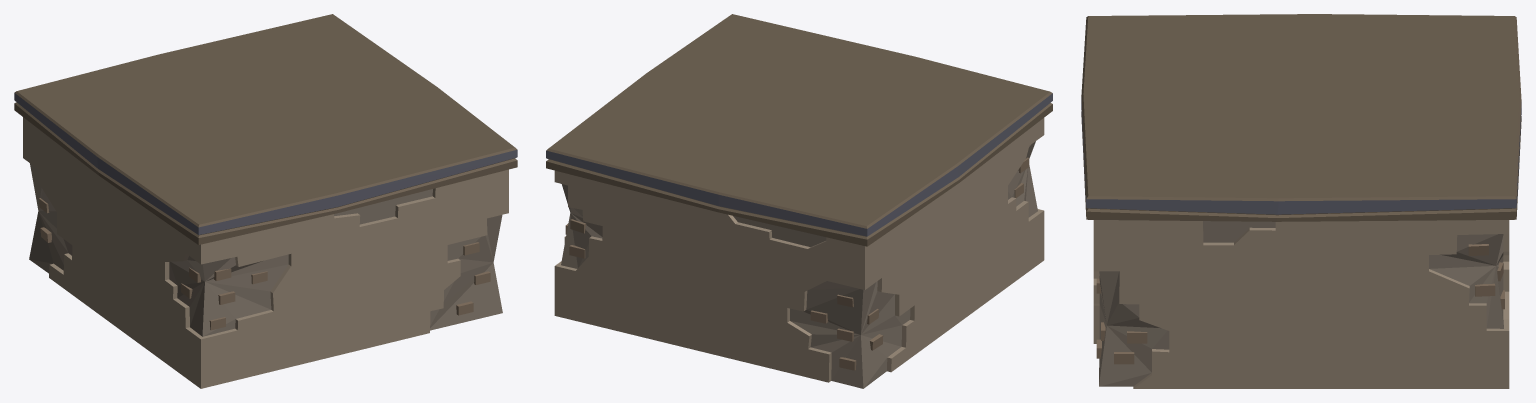
The model's file is SM_Bld_Shanty_Base_01.glb.
The picture shows the model from 3 angles, left to right: view 1: azimuth 30°, elevation 25°; view 2: azimuth 150°, elevation 25°; view 3: azimuth 270°, elevation 25°; orthographic projection. The views are drawn at different scales.
Visible parts, largest first — view 1: SM_Bld_Shanty_Base_01_part00; view 2: SM_Bld_Shanty_Base_01_part00; view 3: SM_Bld_Shanty_Base_01_part00.
Part boxes in pixels (<box>): SM_Bld_Shanty_Base_01_part00: <box>14,14,517,388</box>; SM_Bld_Shanty_Base_01_part00: <box>546,14,1052,388</box>; SM_Bld_Shanty_Base_01_part00: <box>1081,14,1521,388</box>.
Size of the model in its own units: 5.11 by 2.5 by 5.11.
1 material, 1 textured.
